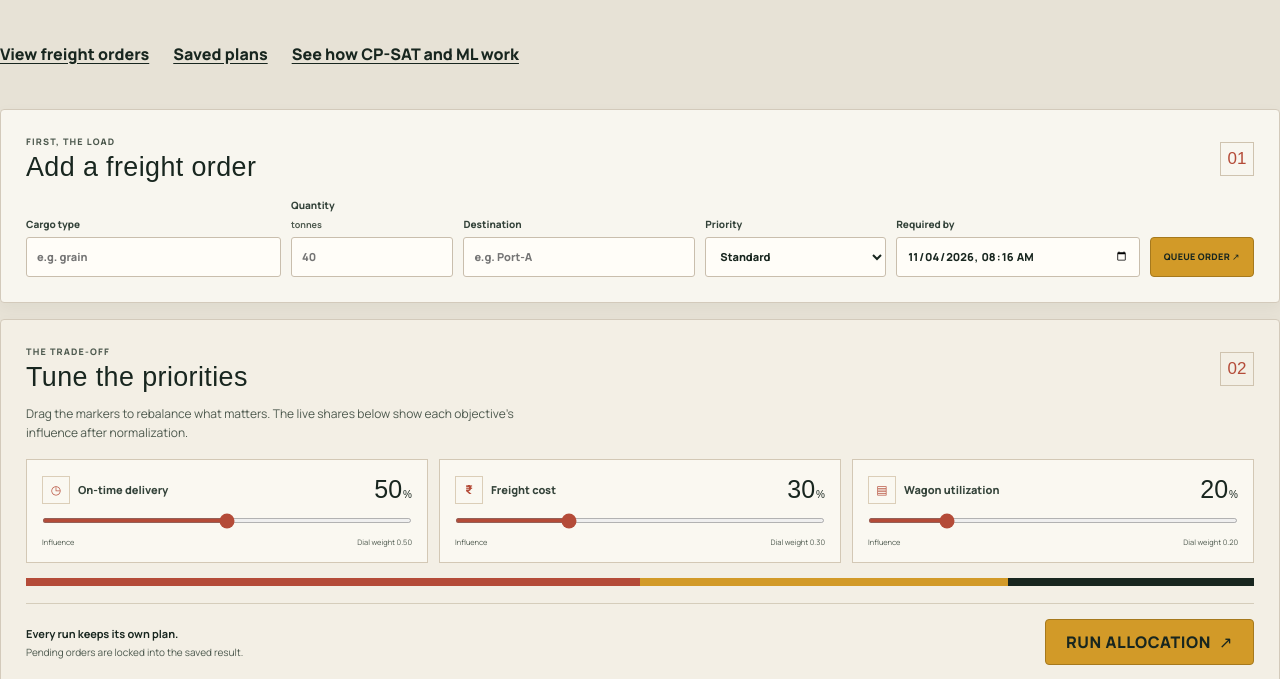
Test: optimization workshop › explains unassigned orders and offers ranked alternatives
(page scrolled)
What coordinates should you click on to do the following:
click the button "Run allocation ↗"
I would click on:
 (1150, 642)
Its box is [1045,619,1254,665].
(page scrolled)
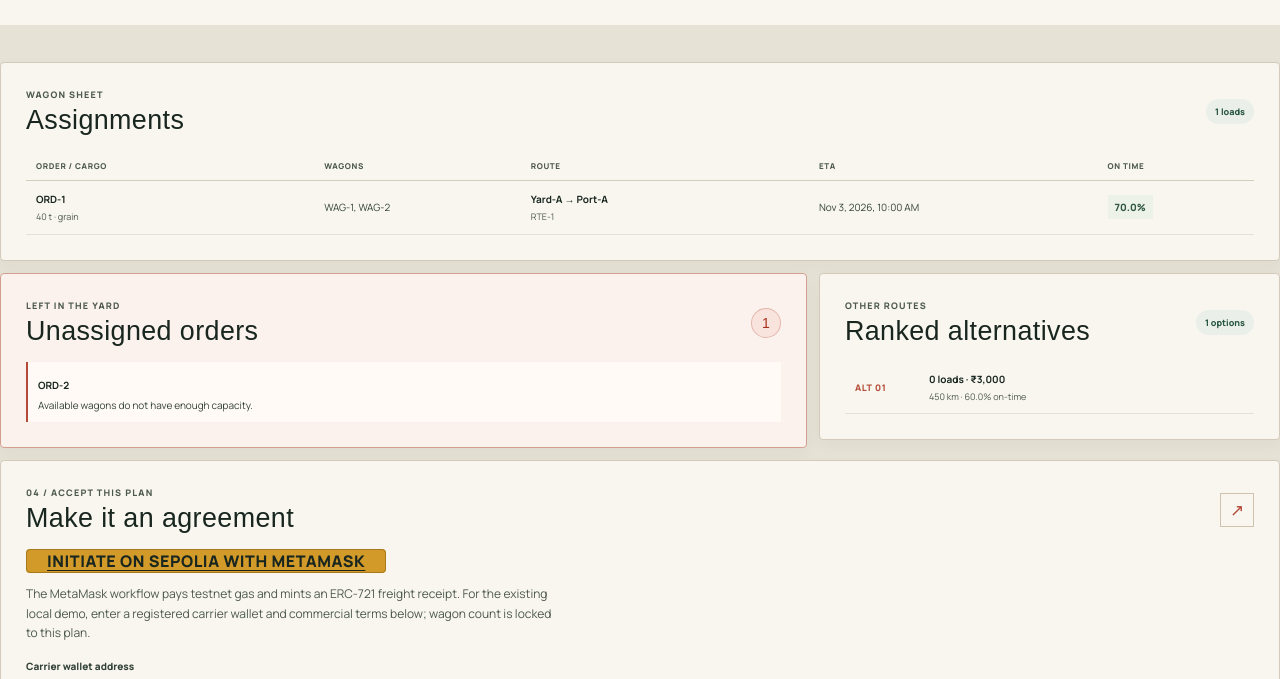
Now the text "Available wagons do not have enough capacity." is shown, box [38,398,253,412]
Now the heading "Ranked alternatives" is shown, box [845,316,1090,347]
